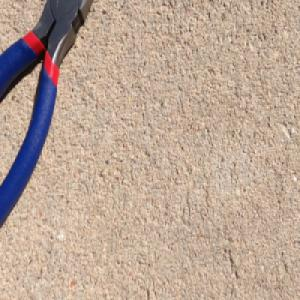Pliers: (0, 0, 95, 237)
